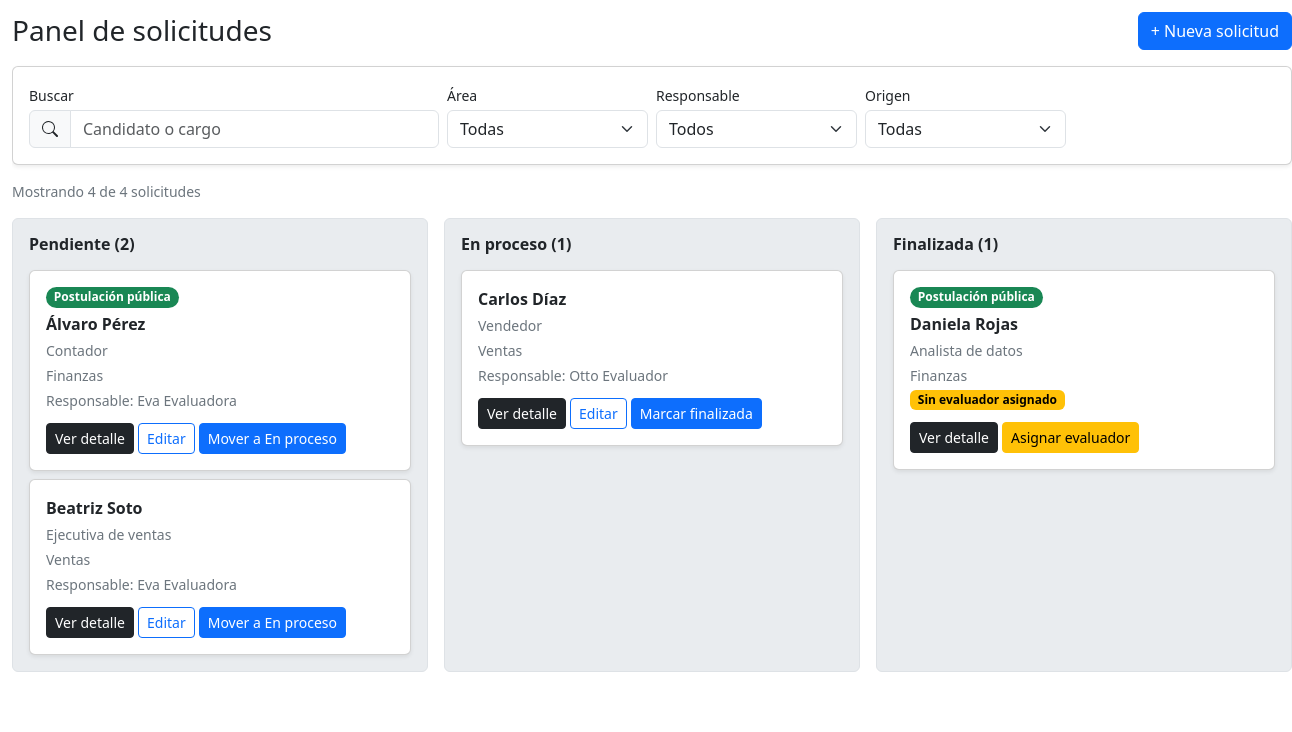
it: Panel: búsqueda y filtros › cada columna muestra su cantidad, calculada sobre lo filtrado
Expected: the heading "Panel de solicitudes" is shown, x1=12 y1=14 x2=272 y2=48
Expected: the heading "Pendiente (2)" is shown, x1=29 y1=233 x2=135 y2=255
Select "Finanzas" in the dropdown labelled "Área" at (548, 129), box x1=447 y1=110 x2=648 y2=148
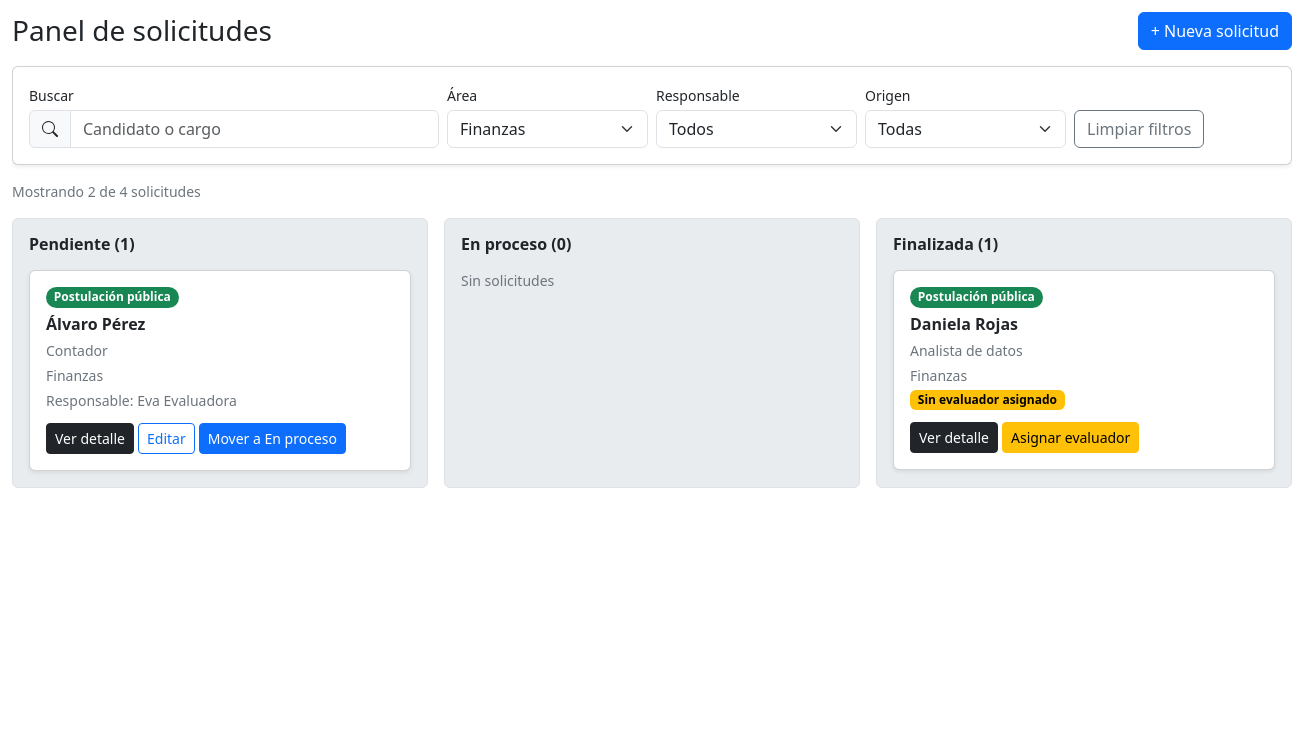
Expected: the heading "Finalizada (1)" is shown, x1=893 y1=233 x2=998 y2=255
Now the heading "Pendiente (1)" is shown, box x1=29 y1=233 x2=135 y2=255
Now the heading "En proceso (0)" is shown, box x1=461 y1=233 x2=571 y2=255
